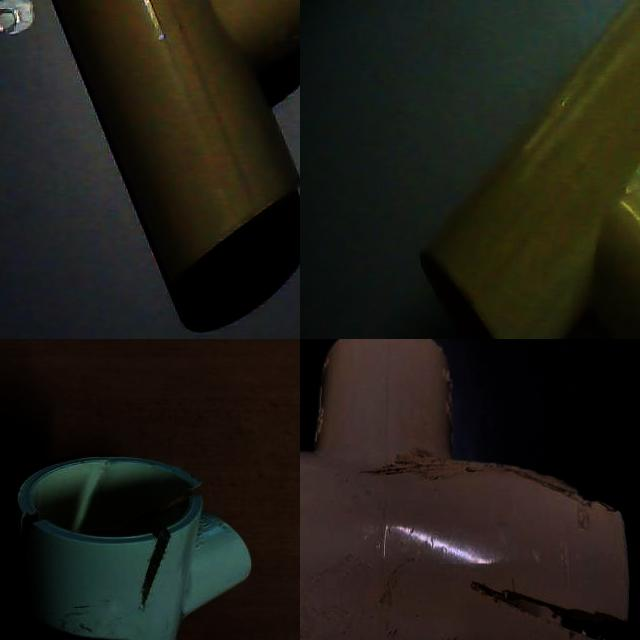Defective: (458, 577, 633, 640), (506, 454, 628, 529), (122, 524, 208, 620), (153, 468, 247, 538), (372, 446, 453, 518), (11, 512, 80, 572), (300, 617, 475, 640)
T Joint: (300, 339, 632, 640)
